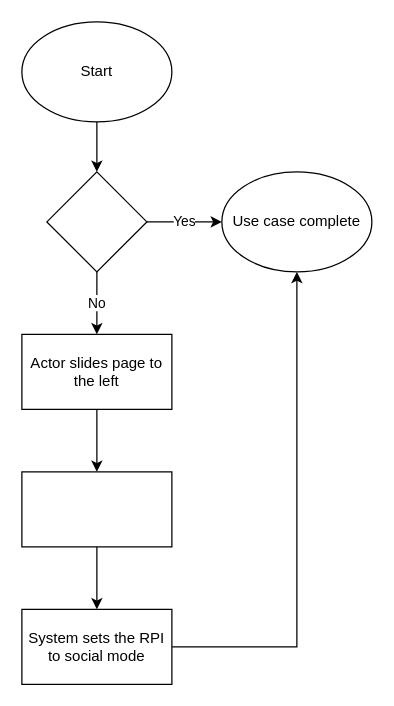
Image size: 394x706. Some labels were removed from this diagram. Here are the shapes that lost their labels. From the top down, the centre of each, then its label:
(96,221): Mode page open?
(96,509): System shows next mode page
